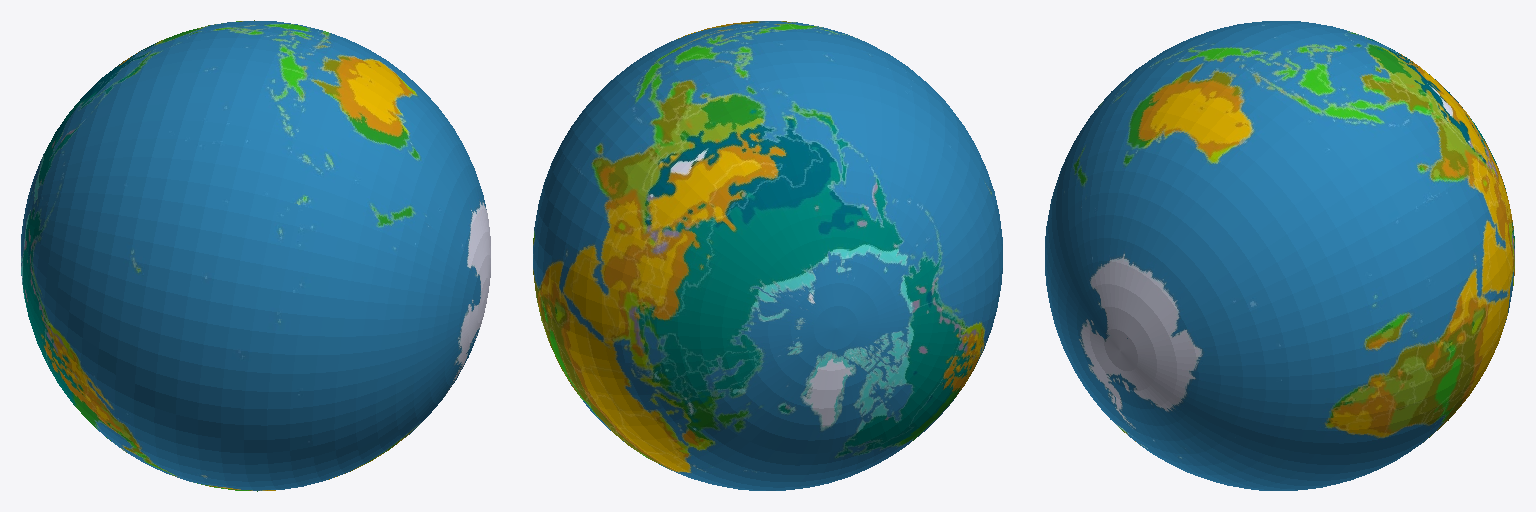
3 views of the same model, side by side, from view 1: azimuth 30°, elevation 25°; view 2: azimuth 150°, elevation 25°; view 3: azimuth 270°, elevation 25° (orthographic).
Parts seen in each view (by area): view 1: Earth; view 2: Earth; view 3: Earth.
Boxes of the visible parts, box(x1,y1,x2,y2) form: Earth: box(21, 20, 490, 491); Earth: box(533, 21, 1002, 490); Earth: box(1045, 21, 1514, 490).
Size of the model in its own units: 2 by 2 by 2.
1 materials, 1 textured.